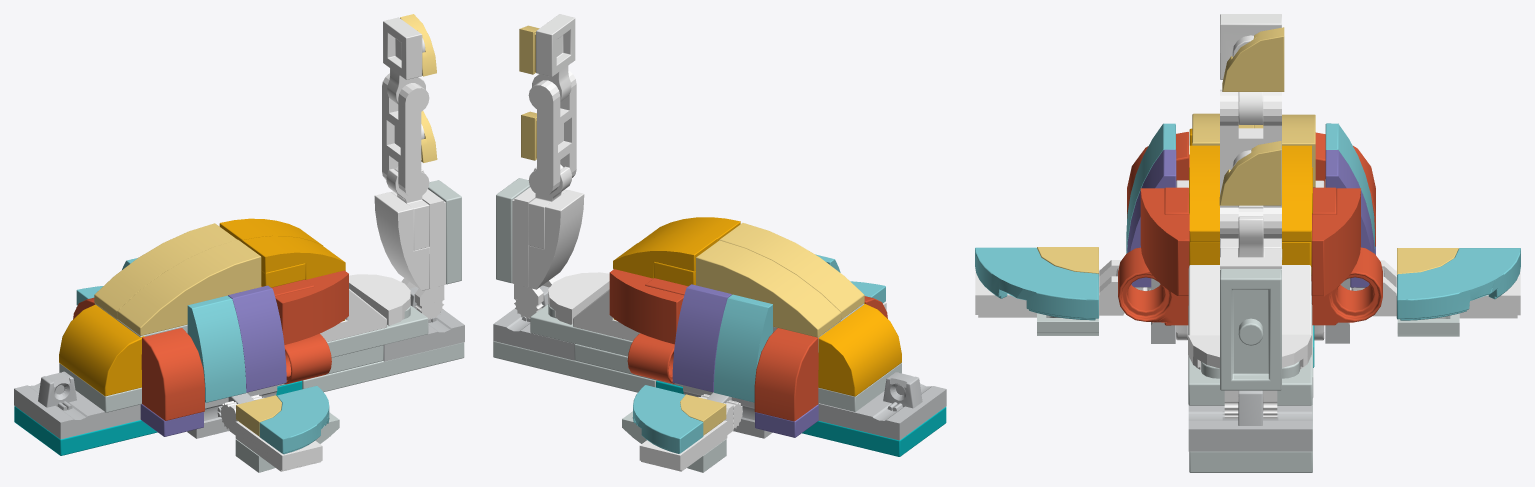
Rendered from Passo37.fbx.
The picture shows the model from 3 angles, left to right: view 1: azimuth 30°, elevation 25°; view 2: azimuth 150°, elevation 25°; view 3: azimuth 270°, elevation 25°; orthographic projection. The views are drawn at different scales.
Parts seen in each view (by area): view 1: Slope_curved_3x1__1_.011, Brick_curved_2x1.019, Brick_cuved_1x2x1__1_.017, Slope_curved_2x1__2_.007, Hinge_plate_2x2_1.010, Plate_special_1x1_2.002, Slope_curved_2x1__2__1.004, Slope_curved_3x1.015, Slope_curved_2x1__3_.002, Slope_curved_2x1.014, Tile_2x2.006, Slope_curved_2x1_2 (+22 smaller); view 2: Slope_curved_3x1.015, Brick_curved_2x1.019, Brick_cuved_1x2x1.017, Slope_curved_2x1__1_.011, Hinge_plate_2x2_1.010, Slope_curved_2x1_1.009, Plate_special_1x1_2.002, Slope_curved_3x1__1_.011, Slope_curved_2x1__2__2.004, Tile_2x2_1.001, Slope_curved_2x1.014, Slope_curved_2x1__1__1.009 (+22 smaller); view 3: Plate_1x2.031, Tile_2x2.006, Tile_2x2_1.001, Hinge_plate_2x2__1_.021, Plate_special_1x1_2.002, Slope_curved_2x1__2__2.004, Slope_curved_2x1__3_.002, Plate_special_1x2_hole__1_.003, Plate_special_1x2_hole.008, Tile_round_1x1_2_2, Tile_round_1x1_2.013, Slope_curved_2x1_2 (+27 smaller).
Boxes of the visible parts, x1,y1,x2,y2 form: Slope_curved_3x1__1_.011: [117, 239, 261, 335]; Brick_curved_2x1.019: [59, 304, 144, 396]; Brick_cuved_1x2x1__1_.017: [141, 328, 204, 420]; Slope_curved_2x1__2_.007: [187, 295, 246, 402]; Hinge_plate_2x2_1.010: [14, 371, 140, 439]; Plate_special_1x1_2.002: [382, 73, 429, 198]; Slope_curved_2x1__2__1.004: [228, 285, 286, 392]; Slope_curved_3x1.015: [94, 223, 236, 319]; Slope_curved_2x1__3_.002: [275, 270, 348, 344]; Slope_curved_2x1.014: [374, 192, 429, 290]; Tile_2x2.006: [259, 386, 329, 454]; Slope_curved_2x1_2: [242, 236, 345, 279]; Slope_curved_3x1.015: [696, 240, 841, 337]; Brick_curved_2x1.019: [818, 303, 901, 396]; Brick_cuved_1x2x1.017: [754, 328, 818, 421]; Slope_curved_2x1__1_.011: [714, 294, 772, 402]; Hinge_plate_2x2_1.010: [818, 372, 946, 440]; Slope_curved_2x1_1.009: [672, 284, 731, 392]; Plate_special_1x1_2.002: [528, 70, 576, 196]; Slope_curved_3x1__1_.011: [719, 223, 864, 319]; Slope_curved_2x1__2__2.004: [609, 269, 684, 344]; Tile_2x2_1.001: [633, 385, 703, 453]; Slope_curved_2x1.014: [528, 190, 584, 289]; Slope_curved_2x1__1__1.009: [613, 233, 717, 278]; Plate_1x2.031: [1220, 269, 1281, 390]; Tile_2x2.006: [975, 247, 1098, 320]; Tile_2x2_1.001: [1397, 248, 1520, 320]; Hinge_plate_2x2__1_.021: [1188, 377, 1312, 451]; Plate_special_1x1_2.002: [1220, 89, 1281, 238]; Slope_curved_2x1__2__2.004: [1311, 188, 1360, 295]; Slope_curved_2x1__3_.002: [1140, 188, 1189, 295]; Plate_special_1x2_hole__1_.003: [1118, 187, 1189, 325]; Plate_special_1x2_hole.008: [1312, 187, 1382, 325]; Tile_round_1x1_2_2: [1219, 141, 1281, 205]; Tile_round_1x1_2.013: [1222, 27, 1284, 91]; Slope_curved_2x1_2: [1189, 145, 1219, 241].
Size of the model in its own units: 0.8183 by 0.6296 by 0.705.
